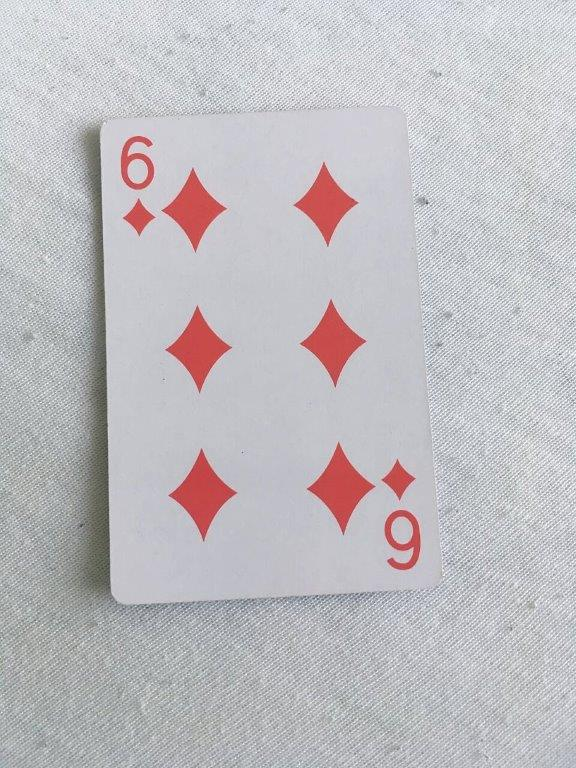6D: (96, 104, 448, 609)
